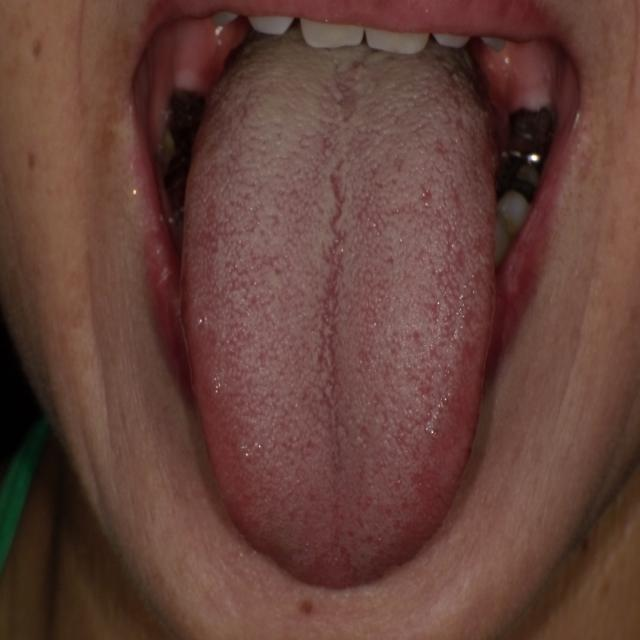baitaishe: (183, 26, 497, 589)
hongshe: (183, 26, 497, 589)
liewenshe: (321, 157, 349, 470)
